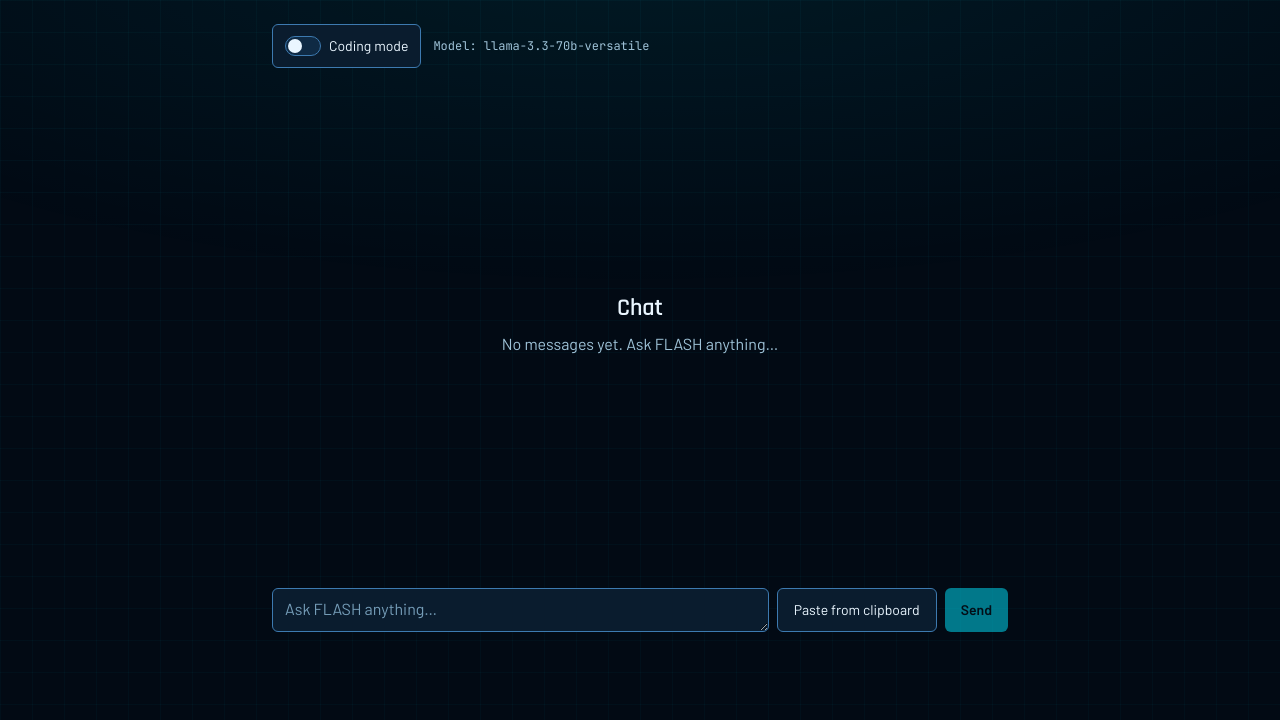
Test: Chat UI › denied clipboard permission shows a message and leaves the composer alone
The image size is (1280, 720).
Click the button "Paste from clipboard" at (857, 610), box [777, 588, 937, 632]
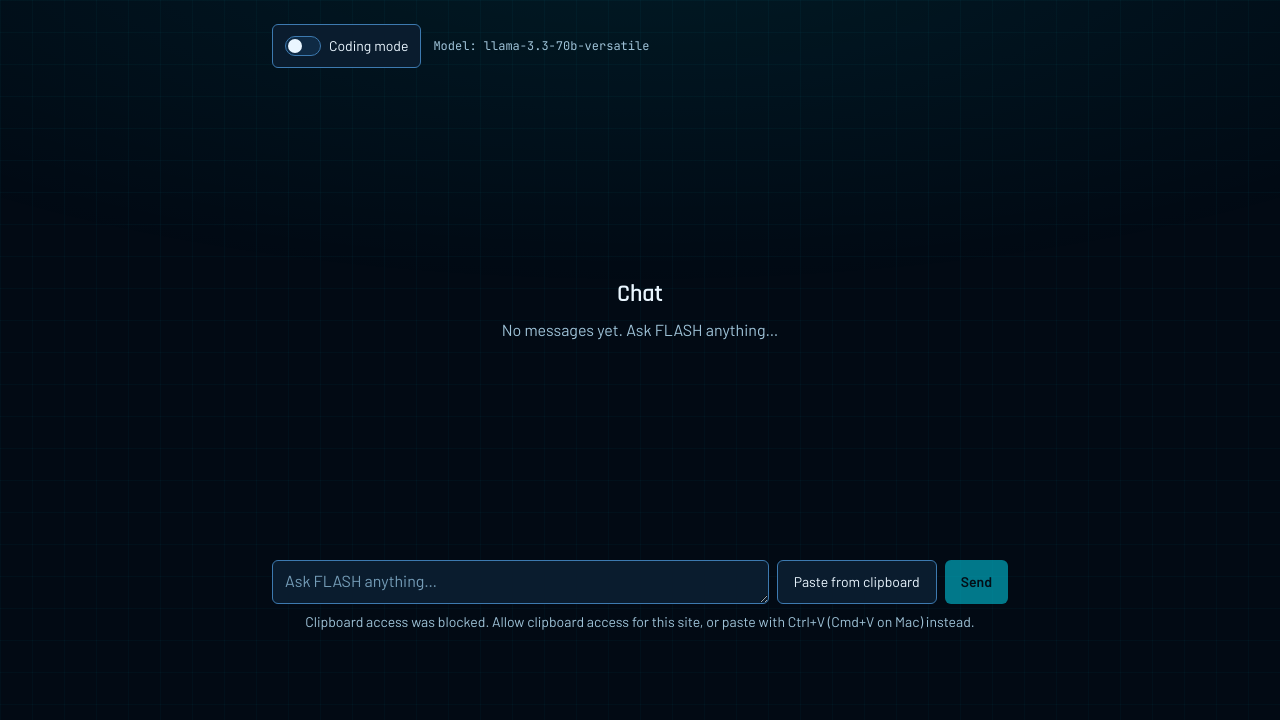
expect the text box named "Message FLASH" is empty: met, box [272, 560, 769, 604]
expect the message shows "Clipboard access was blocked": met, box [305, 613, 975, 630]
